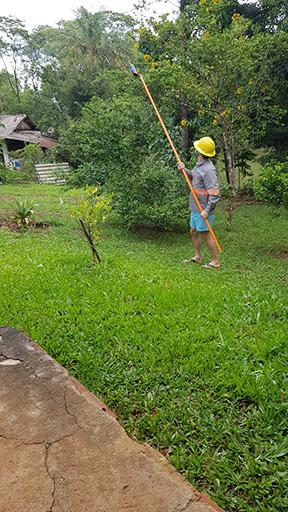Capacete: (192, 135, 217, 162)
Detector_Tensao_Contato: (127, 61, 142, 79)
Vara_Manobra: (139, 75, 222, 255)
